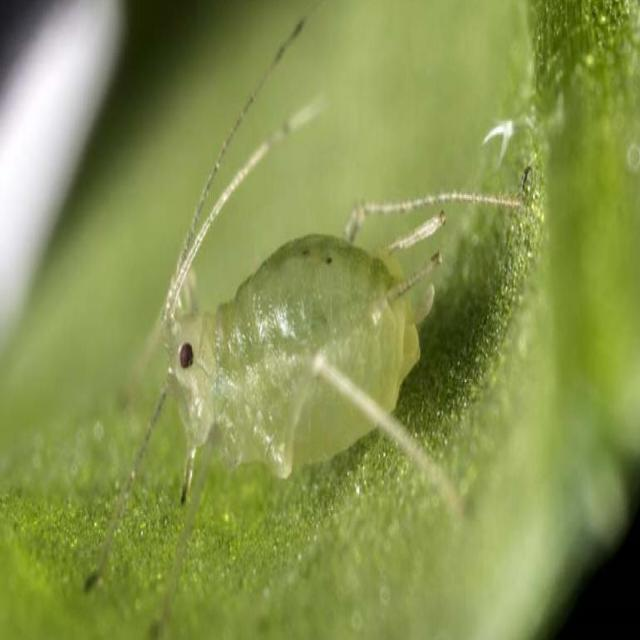Aphid-Grown-: (112, 86, 510, 519)
